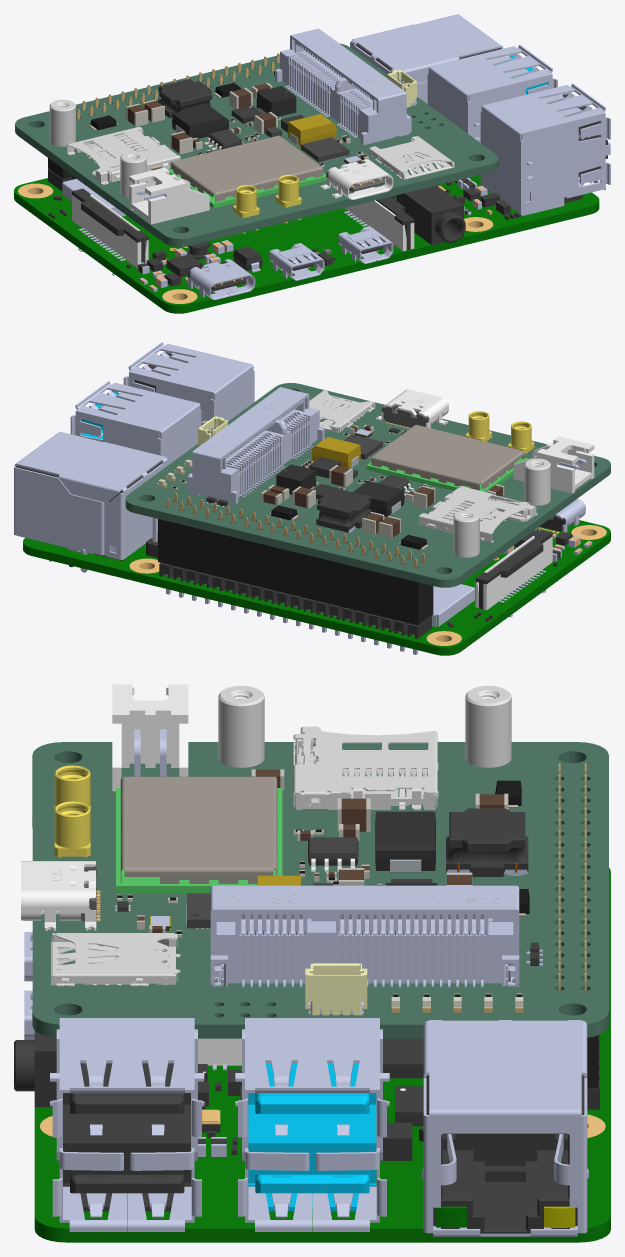
The model's file is hat_variant_2.glb.
3 views of the same model, one above another, from view 1: azimuth 30°, elevation 25°; view 2: azimuth 150°, elevation 25°; view 3: azimuth 270°, elevation 25° (orthographic). The views are drawn at different scales.
Parts seen in each view (by area): view 1: =>[0:1:1:42], NAUO220, NAUO100, NAUO55, NAUO96, =>[0:1:1:2] (×4), U1, NAUO299, J9, NAUO198, J10, J3 (×2) (+24 smaller); view 2: =>[0:1:1:42], NAUO299, J1, NAUO220, NAUO55, NAUO96, U1, NAUO100, =>[0:1:1:2] (×4), NAUO5, J9, J3 (×2) (+17 smaller); view 3: =>[0:1:1:42], NAUO55, NAUO299, NAUO220, NAUO100, NAUO96, U1, =>[0:1:1:2] (×3), NAUO75, NAUO99, NAUO64, J3 (×2) (+15 smaller).
Part boxes in pixels (<box>): =>[0:1:1:42]: <box>15,43,498,246</box>; NAUO220: <box>14,175,599,313</box>; NAUO100: <box>480,83,610,215</box>; NAUO55: <box>275,28,411,145</box>; NAUO96: <box>427,44,557,142</box>; =>[0:1:1:2] (×4): <box>67,105,349,184</box>; U1: <box>167,135,326,208</box>; NAUO299: <box>350,14,503,103</box>; J9: <box>129,167,209,224</box>; NAUO198: <box>396,185,465,244</box>; J10: <box>369,136,454,179</box>; J3 (×2): <box>49,99,146,197</box>; =>[0:1:1:42]: <box>125,383,610,587</box>; NAUO299: <box>14,431,168,572</box>; J1: <box>158,493,433,625</box>; NAUO220: <box>23,520,610,655</box>; NAUO55: <box>187,387,324,504</box>; NAUO96: <box>70,381,201,464</box>; U1: <box>366,424,529,492</box>; NAUO100: <box>123,342,254,425</box>; =>[0:1:1:2] (×4): <box>311,434,537,542</box>; NAUO5: <box>159,563,431,638</box>; J9: <box>513,436,594,493</box>; J3 (×2): <box>453,458,550,557</box>; =>[0:1:1:42]: <box>32,742,608,1038</box>; NAUO55: <box>210,885,519,986</box>; NAUO299: <box>422,1020,588,1236</box>; NAUO220: <box>34,868,610,1242</box>; NAUO100: <box>50,1018,204,1231</box>; NAUO96: <box>235,1018,389,1231</box>; U1: <box>116,776,282,893</box>; =>[0:1:1:2] (×3): <box>187,726,438,928</box>; NAUO75: <box>248,1063,376,1211</box>; NAUO99: <box>63,1063,190,1211</box>; NAUO64: <box>426,1075,584,1233</box>; J3 (×2): <box>218,685,511,767</box>.
Bounding box in the file's own units: 0.0878 × 0.0241 × 0.058.
